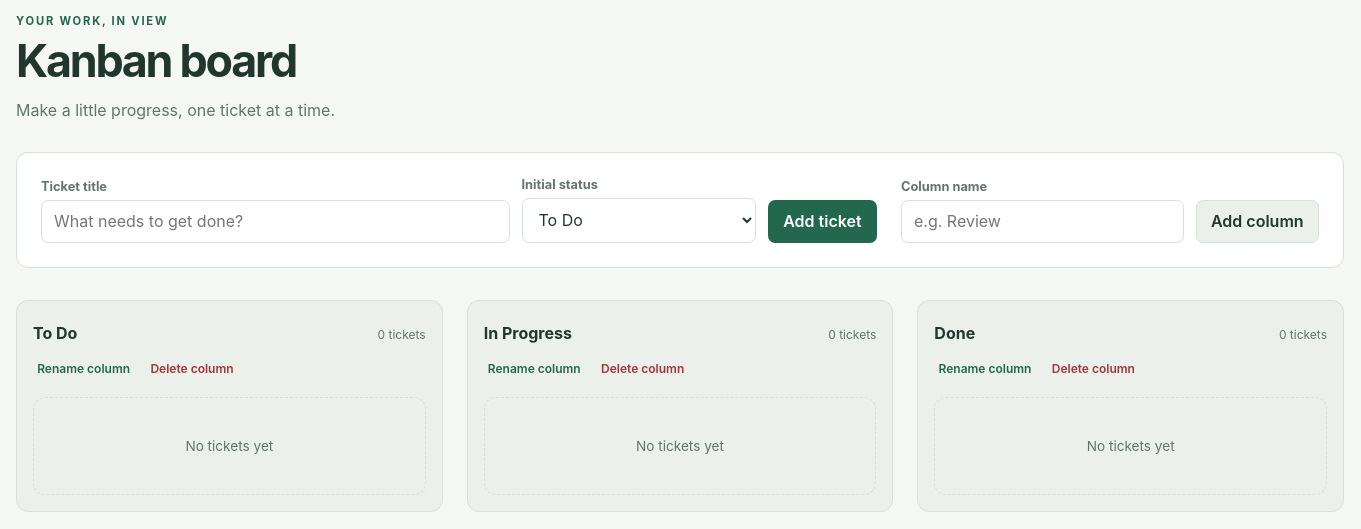
Scenario: Kanban board acceptance › AC2: appends a trimmed column, updates initial status options and clears its input
This screenshot has width=1361, height=529.
Type "  Review  " into the field labelled "Column name" at (1042, 221), box [901,200,1184,243]
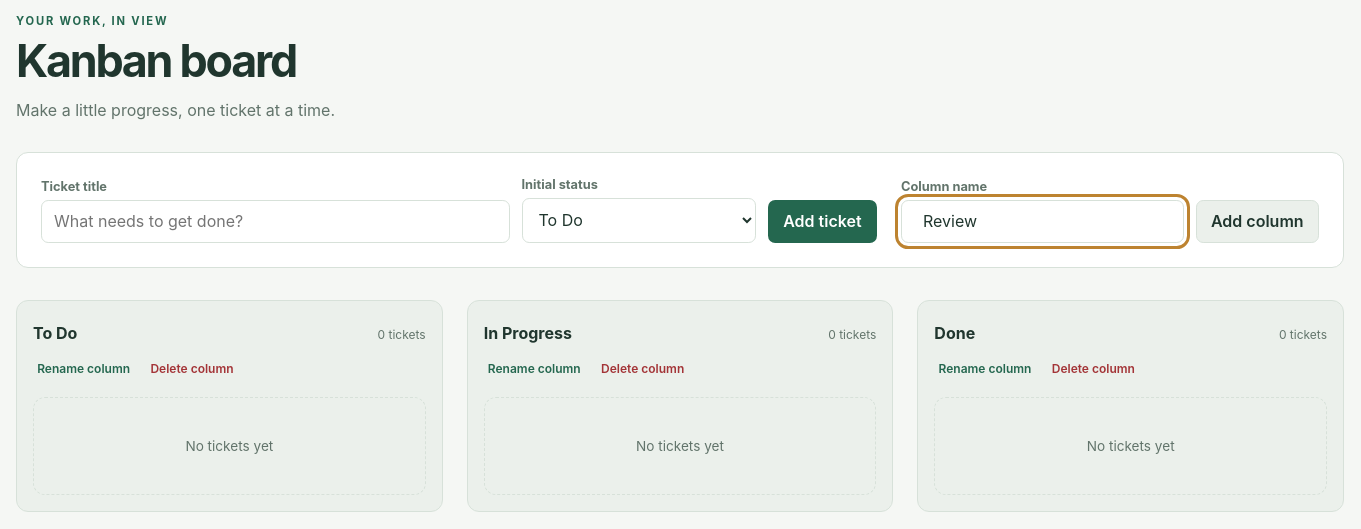
Click the button "Add column" at (1257, 221), box [1196,200,1319,243]
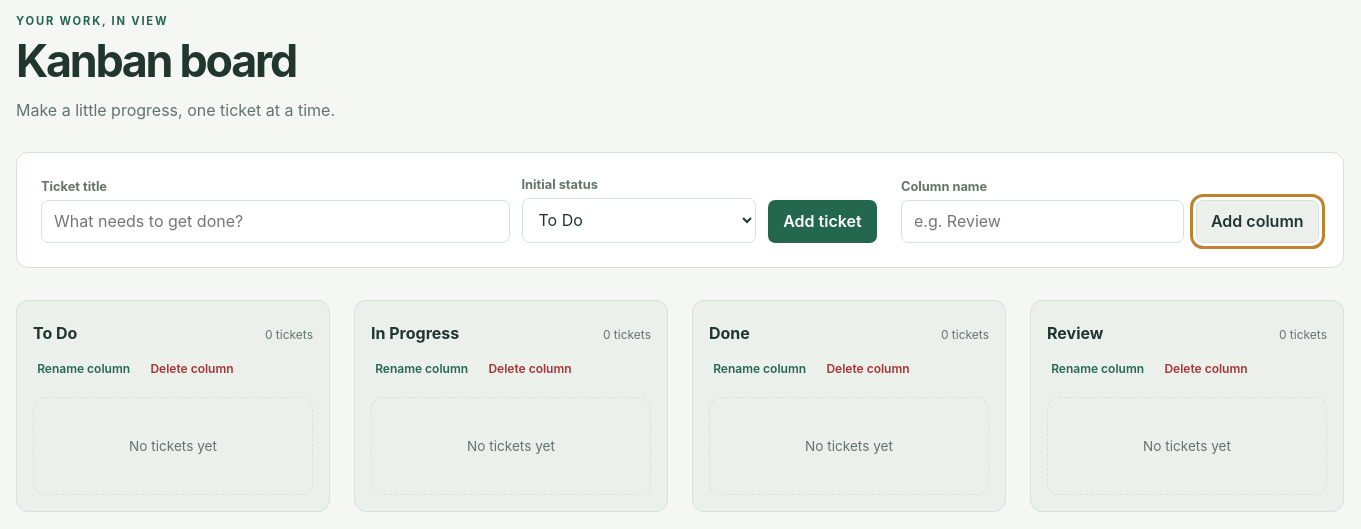
Result: the heading "Review" is shown at [1047,323,1103,343]
Result: the field labelled "Column name" is empty at [901,200,1184,243]
